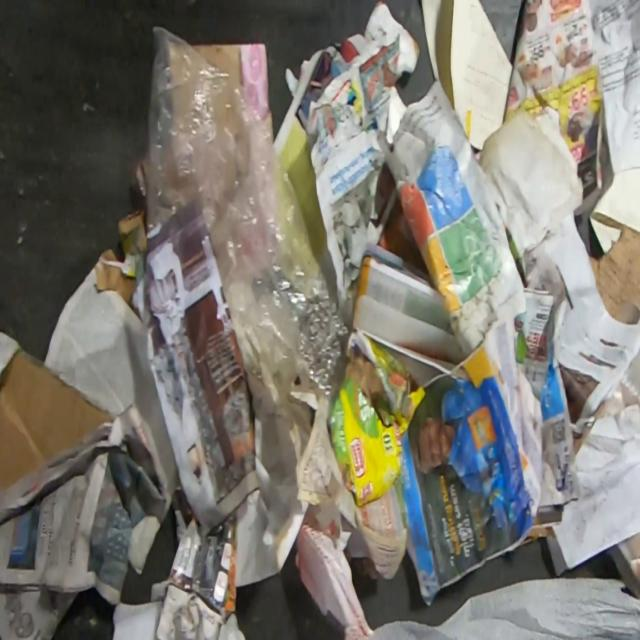cardboard: (43, 207, 180, 496), (327, 330, 428, 506), (0, 348, 116, 495), (149, 481, 238, 639), (194, 43, 274, 138), (588, 223, 640, 324)
soft_plastic: (142, 24, 350, 406), (603, 347, 640, 419)
